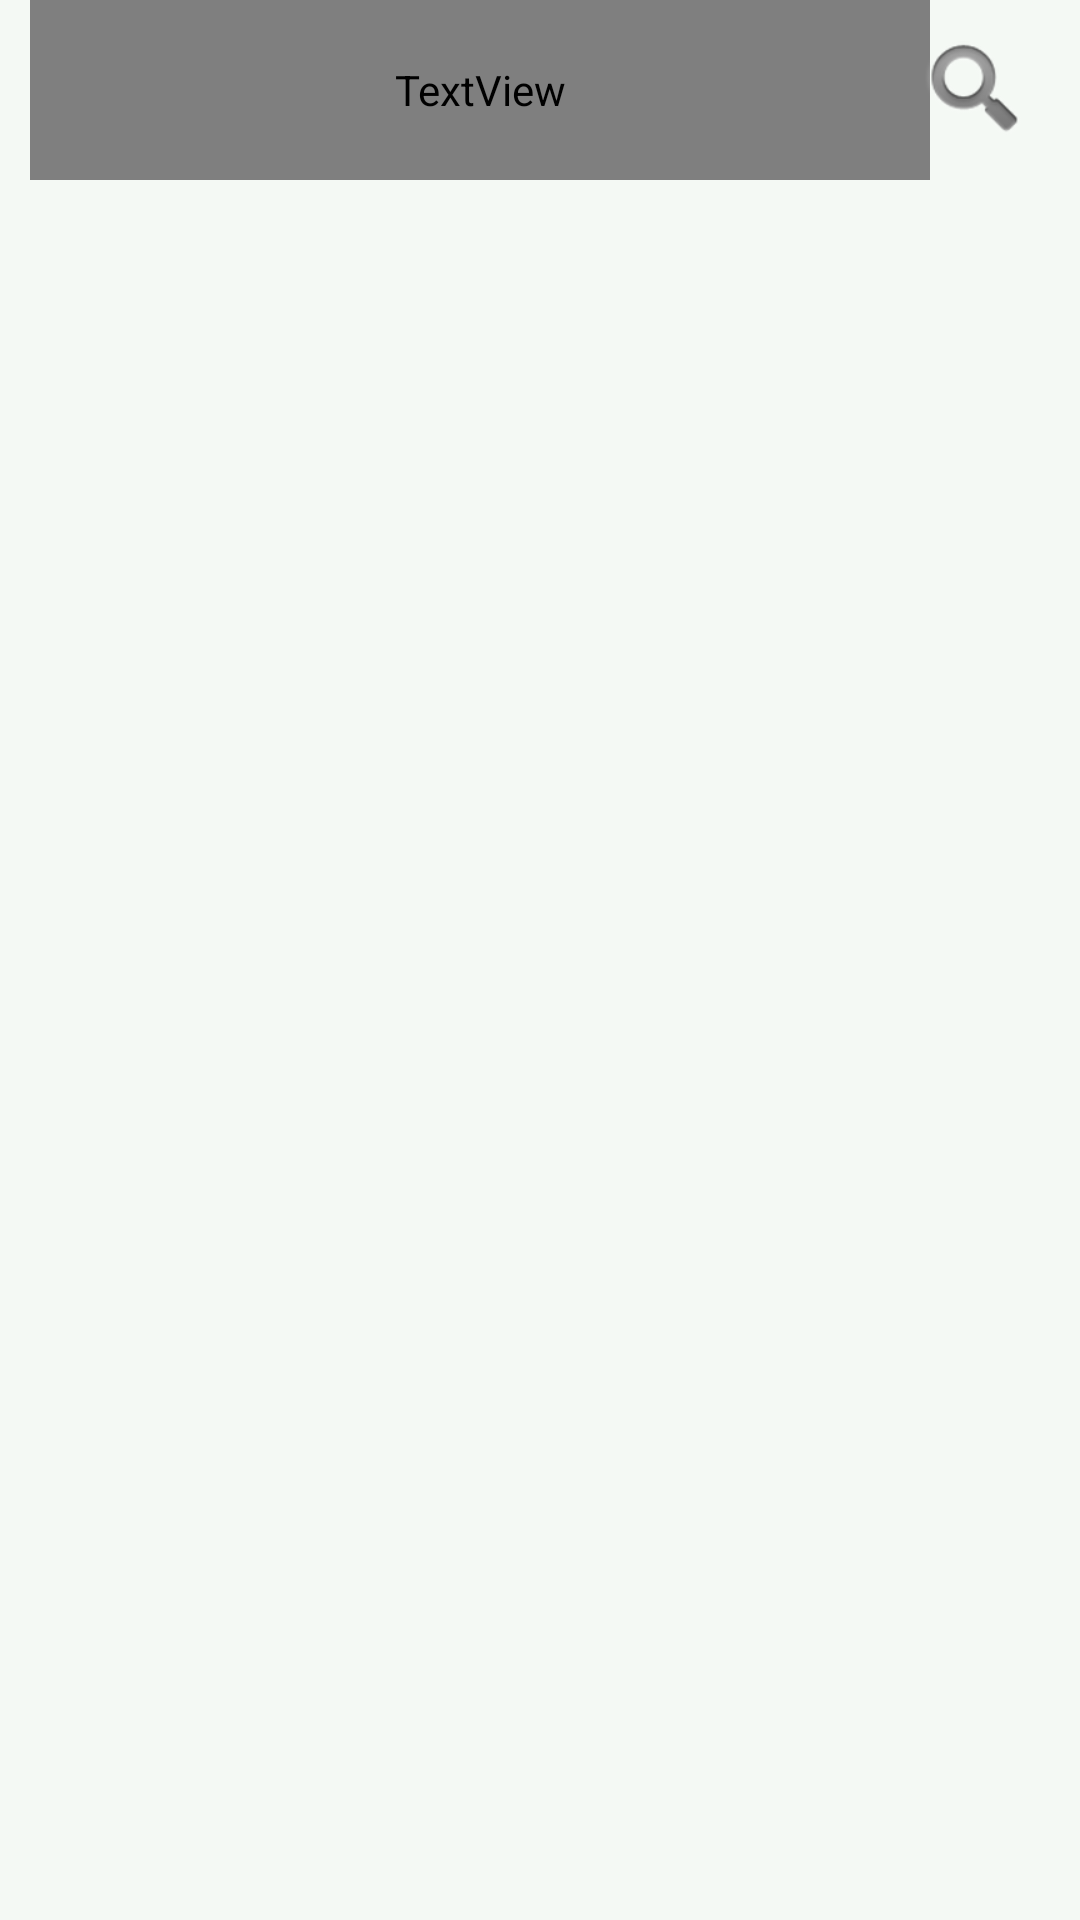

Point at icon controls on the screen. Image size 1080px×1920px, points as [x,y].
search category: [974,88]
